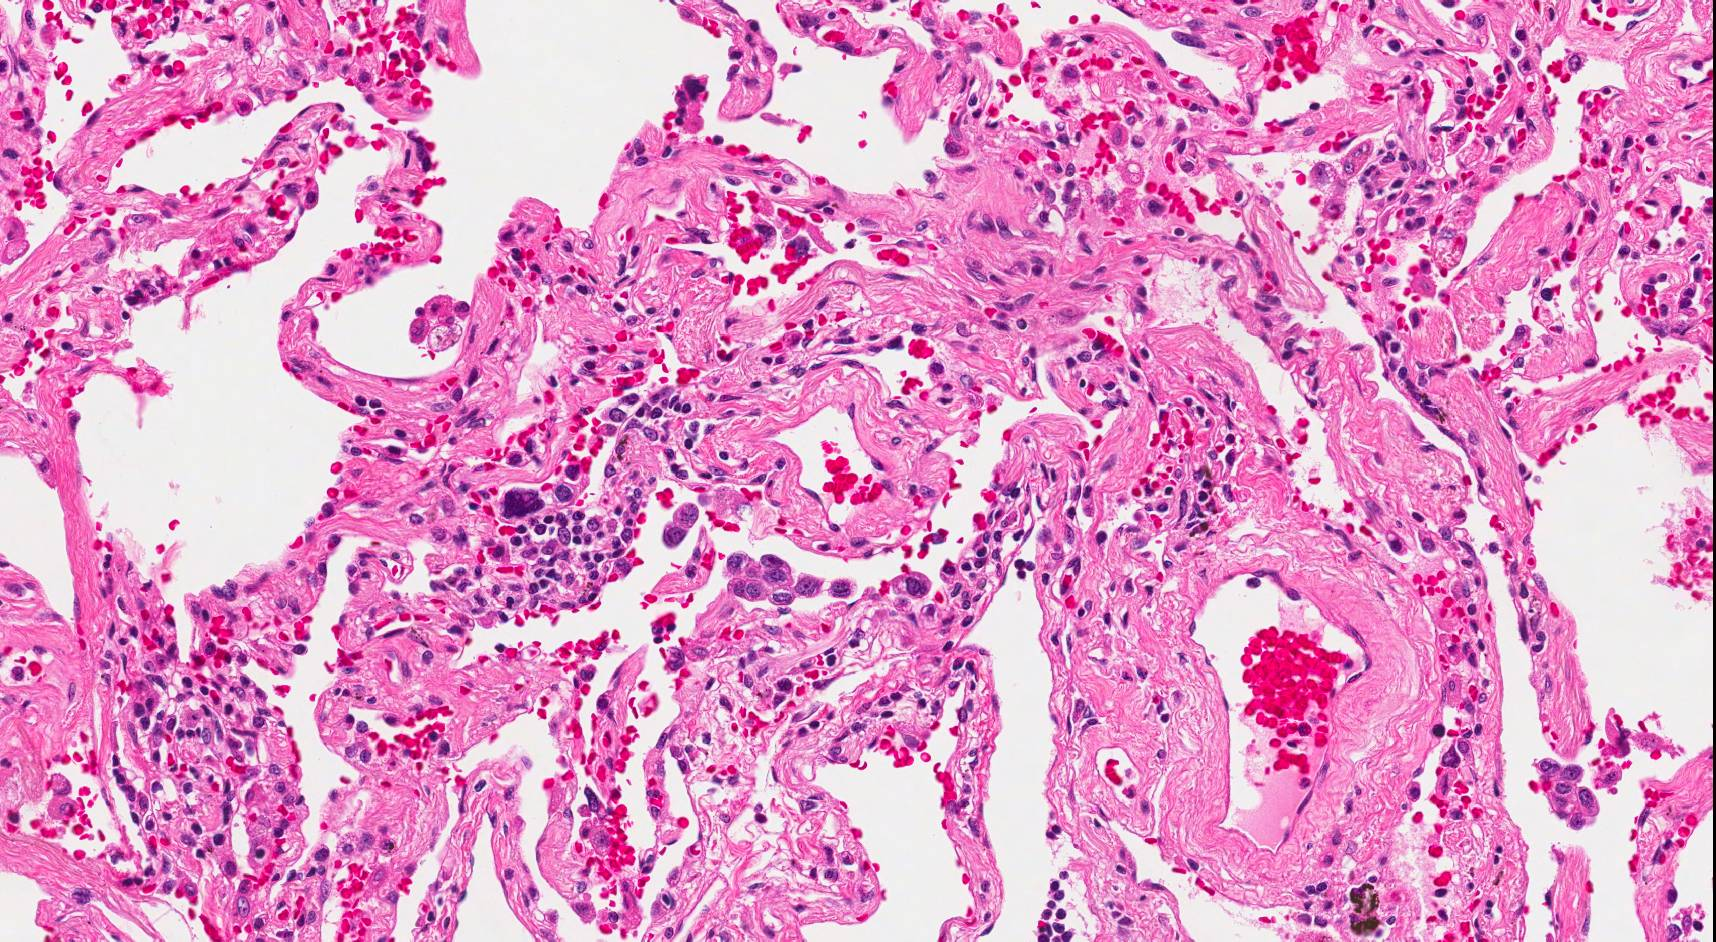stas: (722, 549, 857, 606), (1535, 754, 1603, 833), (661, 503, 700, 551)
